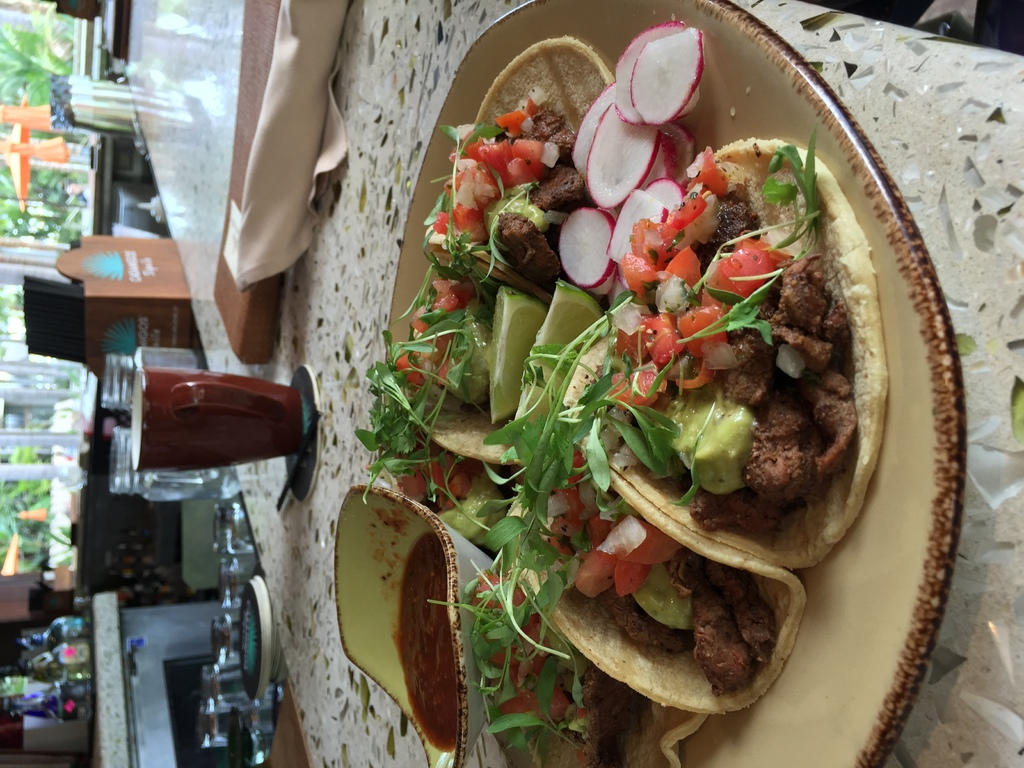taco: (561, 136, 888, 571), (396, 37, 654, 513), (500, 455, 805, 717)
